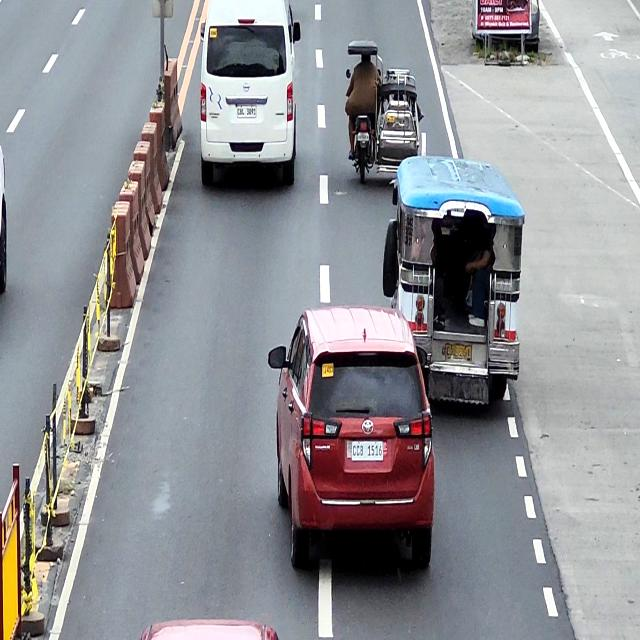Car: (267, 304, 436, 574), (200, 0, 302, 190)
Jeep: (382, 154, 526, 408)
License-Plate: (351, 441, 383, 461), (446, 345, 472, 364), (237, 105, 257, 118), (357, 132, 369, 142)
Tricycle: (347, 39, 428, 184)
